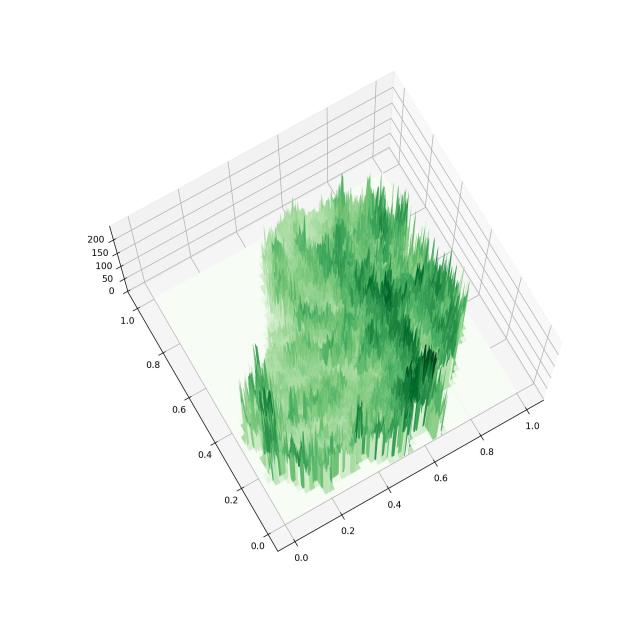spruce: (58, 45, 595, 600)
